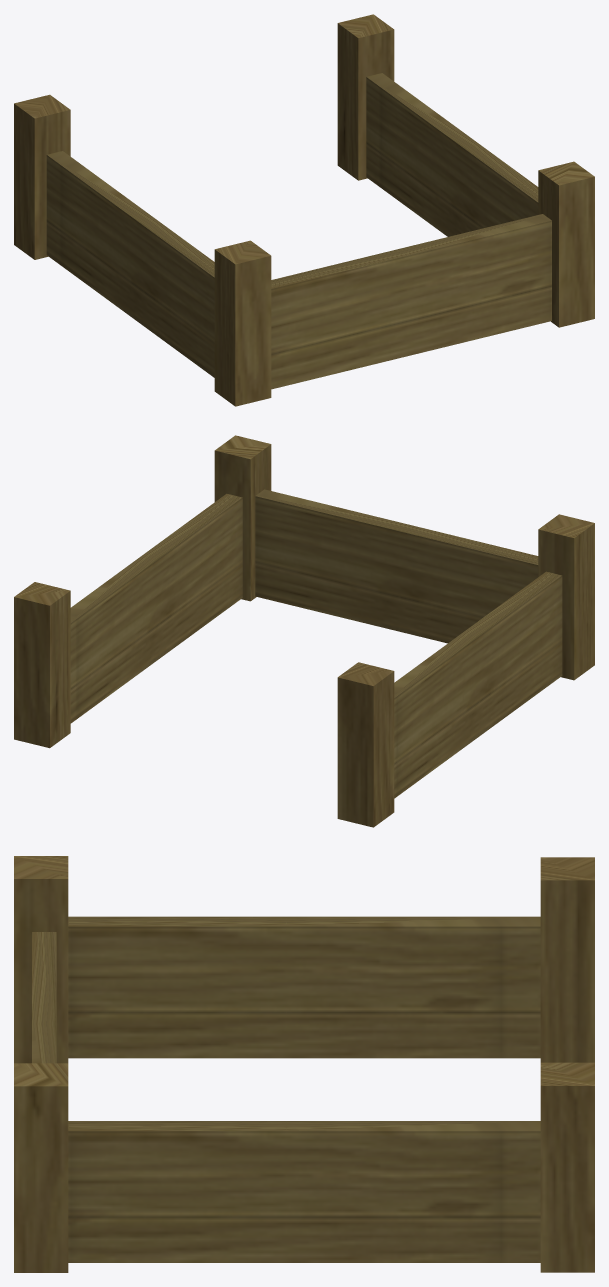
The model's file is sb_obj_outdoor028_house03_balcony.fbx.
3 views of the same model, one above another, from view 1: azimuth 30°, elevation 25°; view 2: azimuth 150°, elevation 25°; view 3: azimuth 270°, elevation 25° (orthographic). The views are drawn at different scales.
Visible parts, largest first — view 1: sb_obj_outdoor028_house03_balcony; view 2: sb_obj_outdoor028_house03_balcony; view 3: sb_obj_outdoor028_house03_balcony.
Boxes of the visible parts, x1,y1,x2,y2 form: sb_obj_outdoor028_house03_balcony: (14,14,594,406); sb_obj_outdoor028_house03_balcony: (14,435,594,827); sb_obj_outdoor028_house03_balcony: (14,856,594,1272).
Bounding box in the file's own units: 3 × 1.14 × 3.2.
